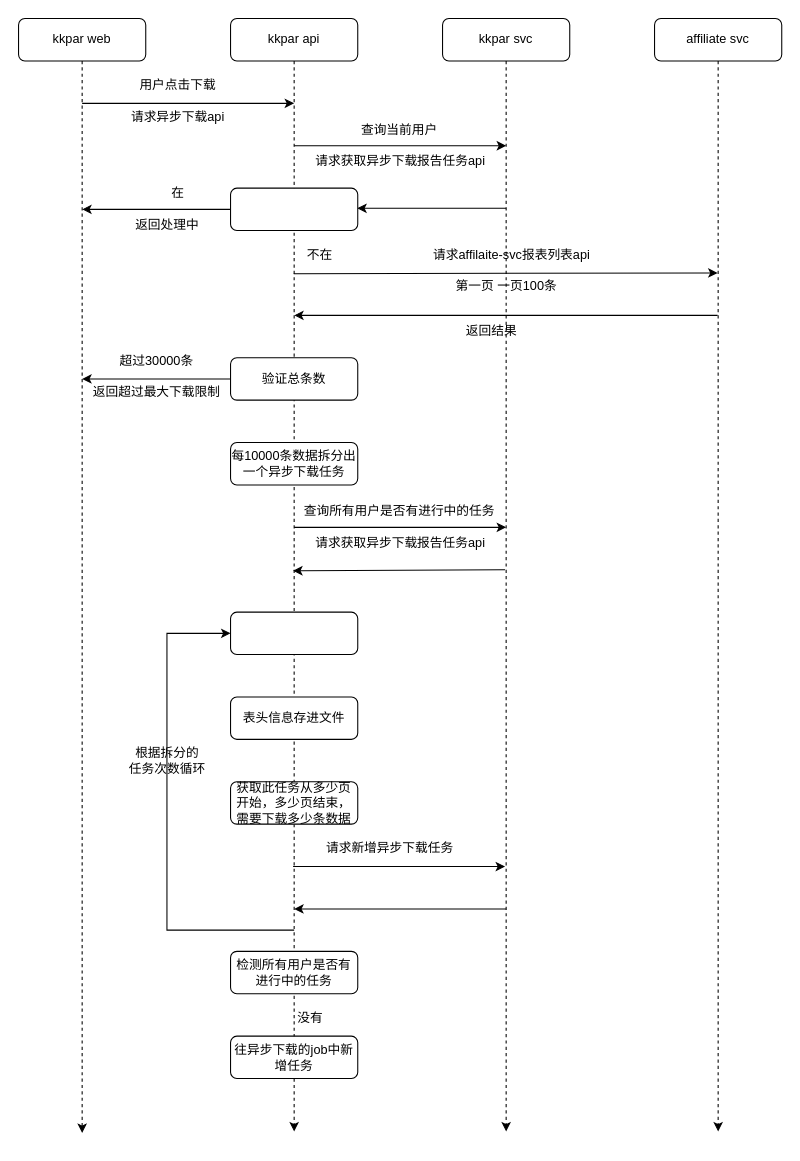
Some shapes in this 800 by 1161 pixel diagram are drawn without their labels. The shapes that lost their labels are listed below. From the top down, each one's centre as x and y in pixels, then its label:
point 293,209: 根据查询条件且状态为未完成 查询是否在db中
point 293,633: 生成csv文件 存储本地
